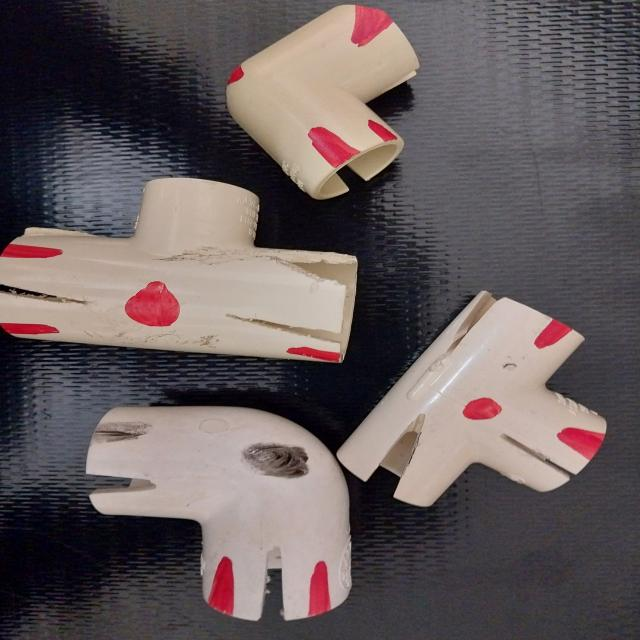Defective: (222, 309, 344, 343), (378, 424, 443, 482), (502, 429, 577, 479), (250, 542, 291, 632), (80, 462, 167, 502), (269, 255, 357, 290), (0, 277, 82, 308), (126, 284, 178, 327), (243, 446, 306, 479), (308, 129, 358, 168), (200, 233, 253, 269), (371, 446, 425, 480), (352, 8, 392, 45), (154, 244, 210, 268), (18, 288, 72, 312), (208, 562, 232, 615), (309, 566, 330, 617), (481, 296, 521, 322), (3, 243, 61, 260), (392, 416, 432, 440), (560, 430, 599, 453), (463, 399, 501, 422), (4, 324, 58, 340), (370, 119, 397, 141), (290, 352, 338, 364), (447, 328, 484, 343), (462, 308, 484, 330), (103, 431, 139, 442), (228, 68, 244, 83), (551, 323, 569, 335)
L Joint: (74, 405, 352, 623), (226, 5, 419, 201)
T Joint: (0, 177, 357, 365), (336, 291, 609, 511)
